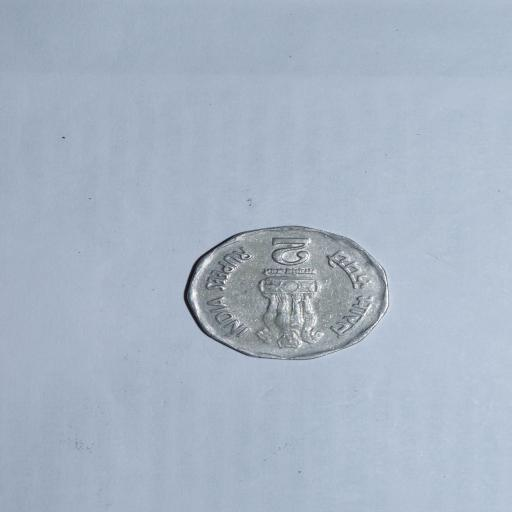rupee2: (184, 225, 393, 360)
